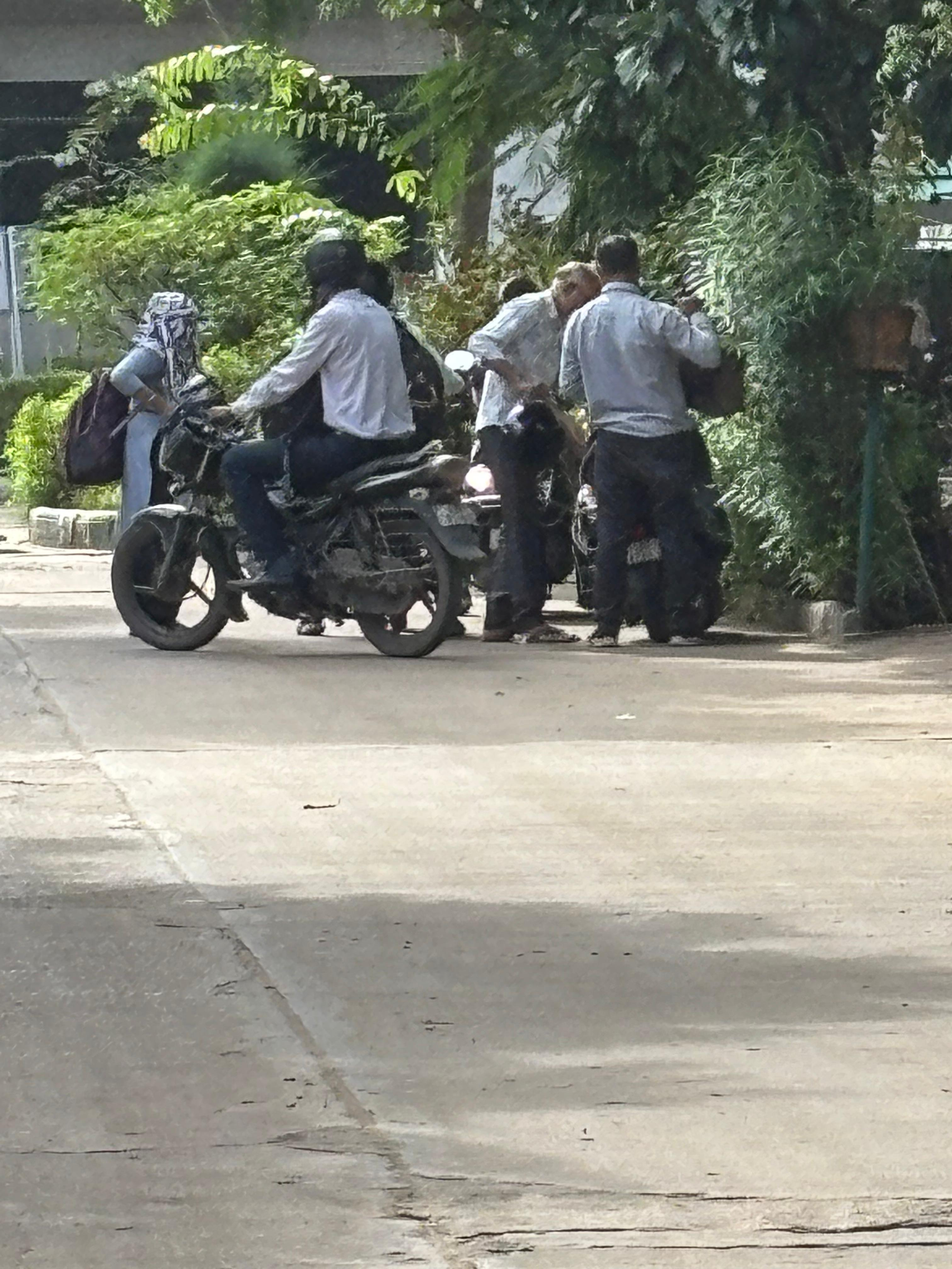BikeWithRider: (109, 187, 497, 674)
Helmet: (304, 234, 370, 311)
